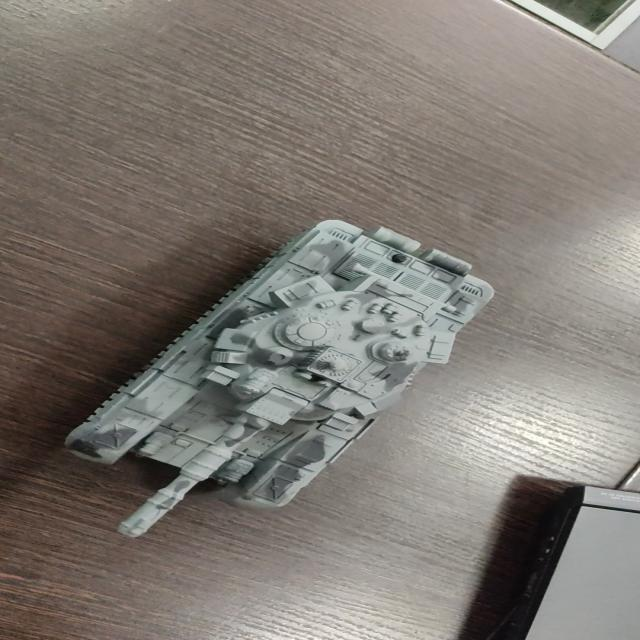tank: (54, 212, 504, 542)
